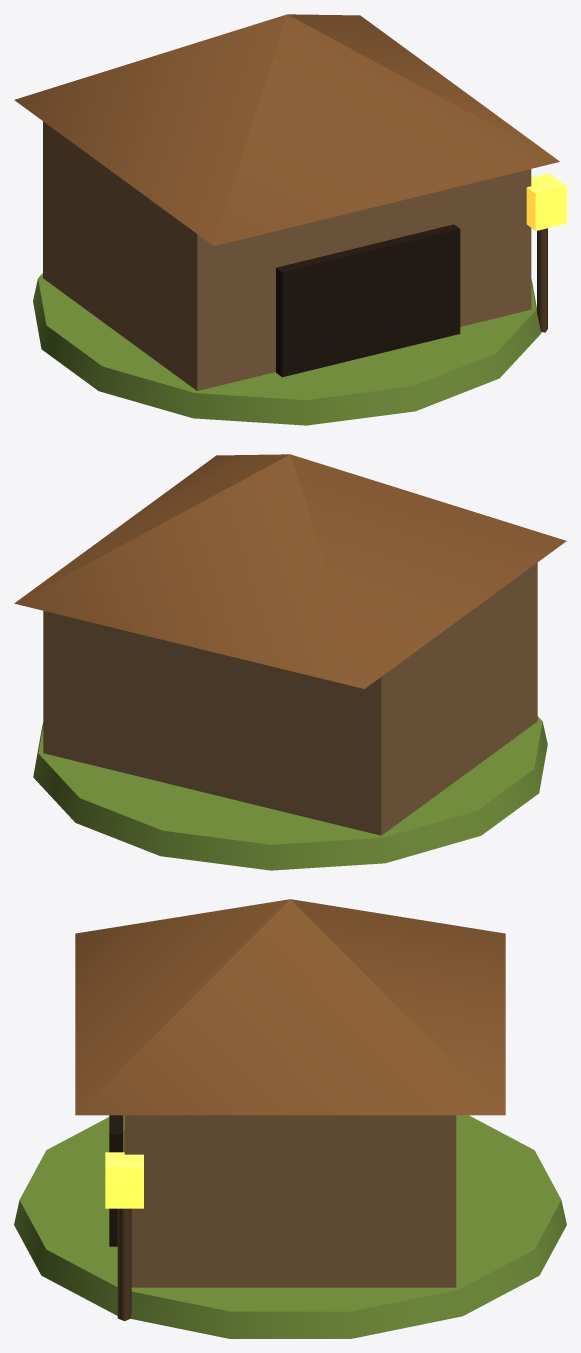
File: level1.glb
The picture shows the model from 3 angles, top to bottom: view 1: azimuth 30°, elevation 25°; view 2: azimuth 150°, elevation 25°; view 3: azimuth 270°, elevation 25°; orthographic projection. The views are drawn at different scales.
Bounding box in the file's own units: 1.95 × 1.3 × 2.
